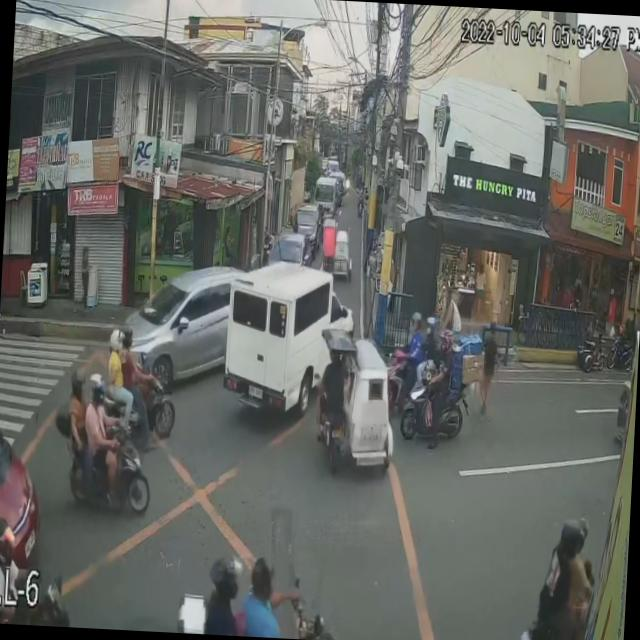full: (209, 556, 245, 602)
half: (248, 554, 278, 604), (70, 366, 88, 403), (88, 372, 105, 405), (110, 328, 125, 354), (409, 310, 423, 336), (122, 324, 136, 348), (424, 317, 436, 340)
